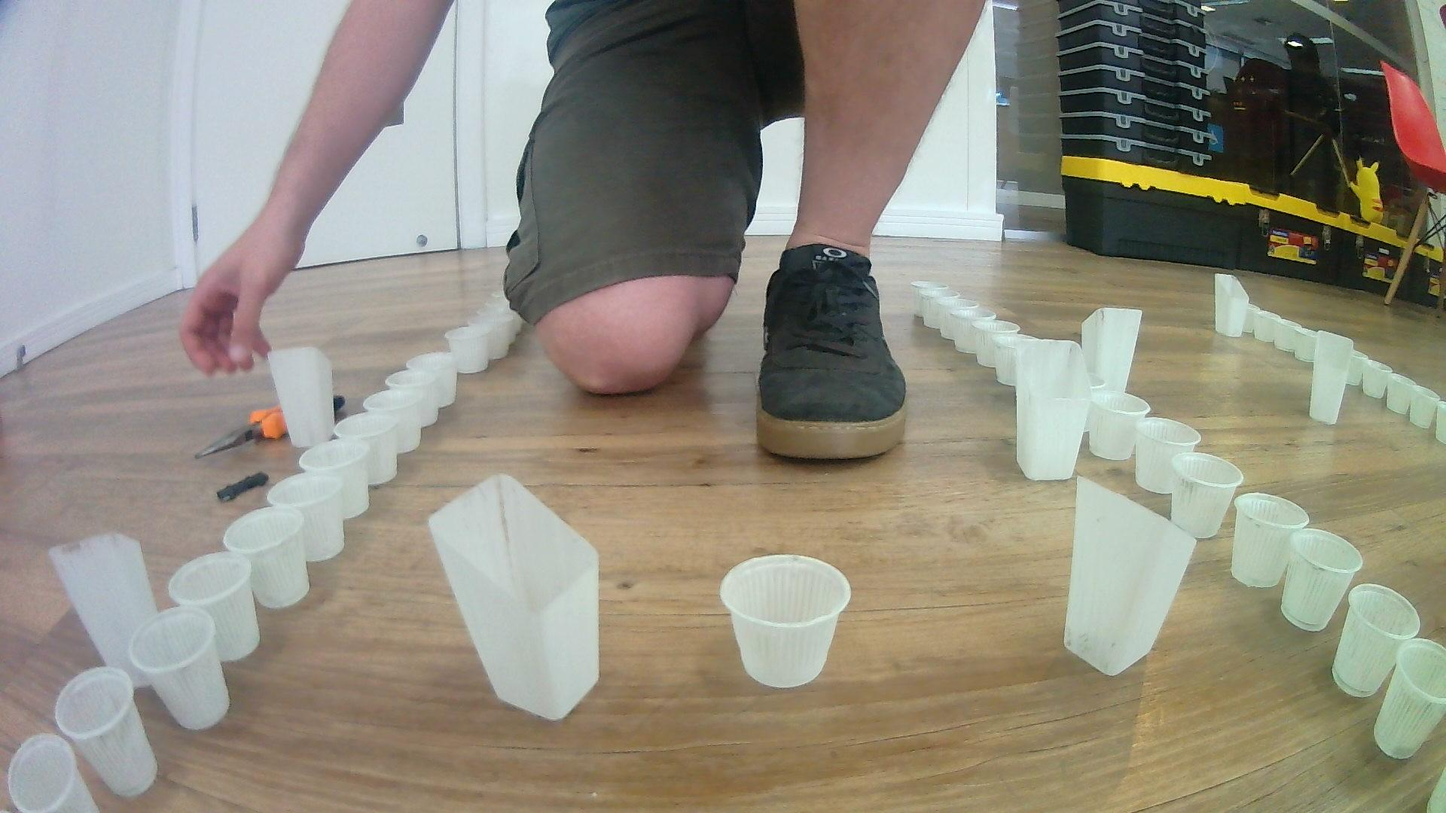erva_daninha: (428, 473, 600, 722), (1062, 474, 1198, 676), (48, 532, 160, 687), (1015, 339, 1092, 482), (267, 346, 335, 449), (1080, 307, 1142, 394), (1309, 329, 1354, 425), (1214, 273, 1250, 337)
planta: (719, 555, 854, 690), (53, 666, 159, 798), (129, 607, 230, 732), (167, 550, 261, 663), (1331, 583, 1421, 697), (223, 507, 310, 609), (1280, 528, 1365, 632), (1373, 639, 1446, 760), (1230, 492, 1310, 589), (6, 734, 99, 813), (266, 472, 346, 562), (1169, 452, 1246, 540), (299, 439, 370, 521), (1134, 417, 1202, 495), (333, 413, 398, 486), (1088, 392, 1151, 461), (362, 388, 422, 454), (384, 370, 439, 427), (406, 352, 457, 409), (972, 319, 1023, 367), (993, 333, 1039, 386), (444, 325, 489, 373), (953, 308, 998, 354), (468, 310, 509, 360), (938, 297, 981, 340), (923, 289, 962, 329), (481, 297, 518, 336), (1387, 371, 1419, 415), (1411, 384, 1441, 430), (910, 280, 947, 317), (1363, 360, 1393, 400), (1294, 325, 1322, 363), (1275, 316, 1304, 352), (1254, 309, 1283, 343), (1347, 350, 1370, 386), (1242, 303, 1265, 338), (1435, 400, 1446, 445)
